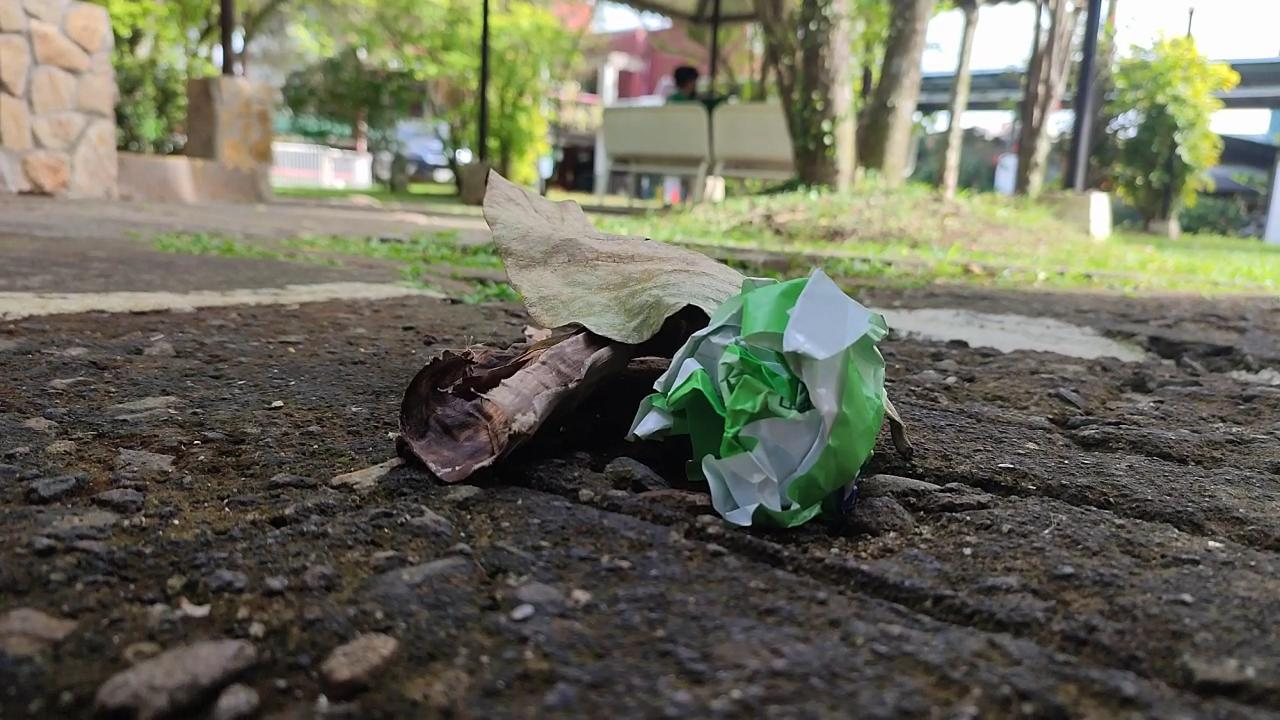Paper: (606, 254, 892, 544)
